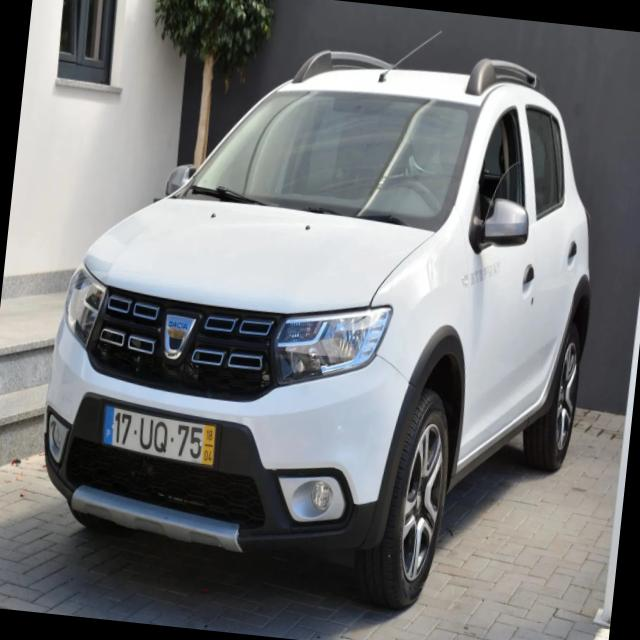portuguese-license-plates: (101, 401, 217, 470)
